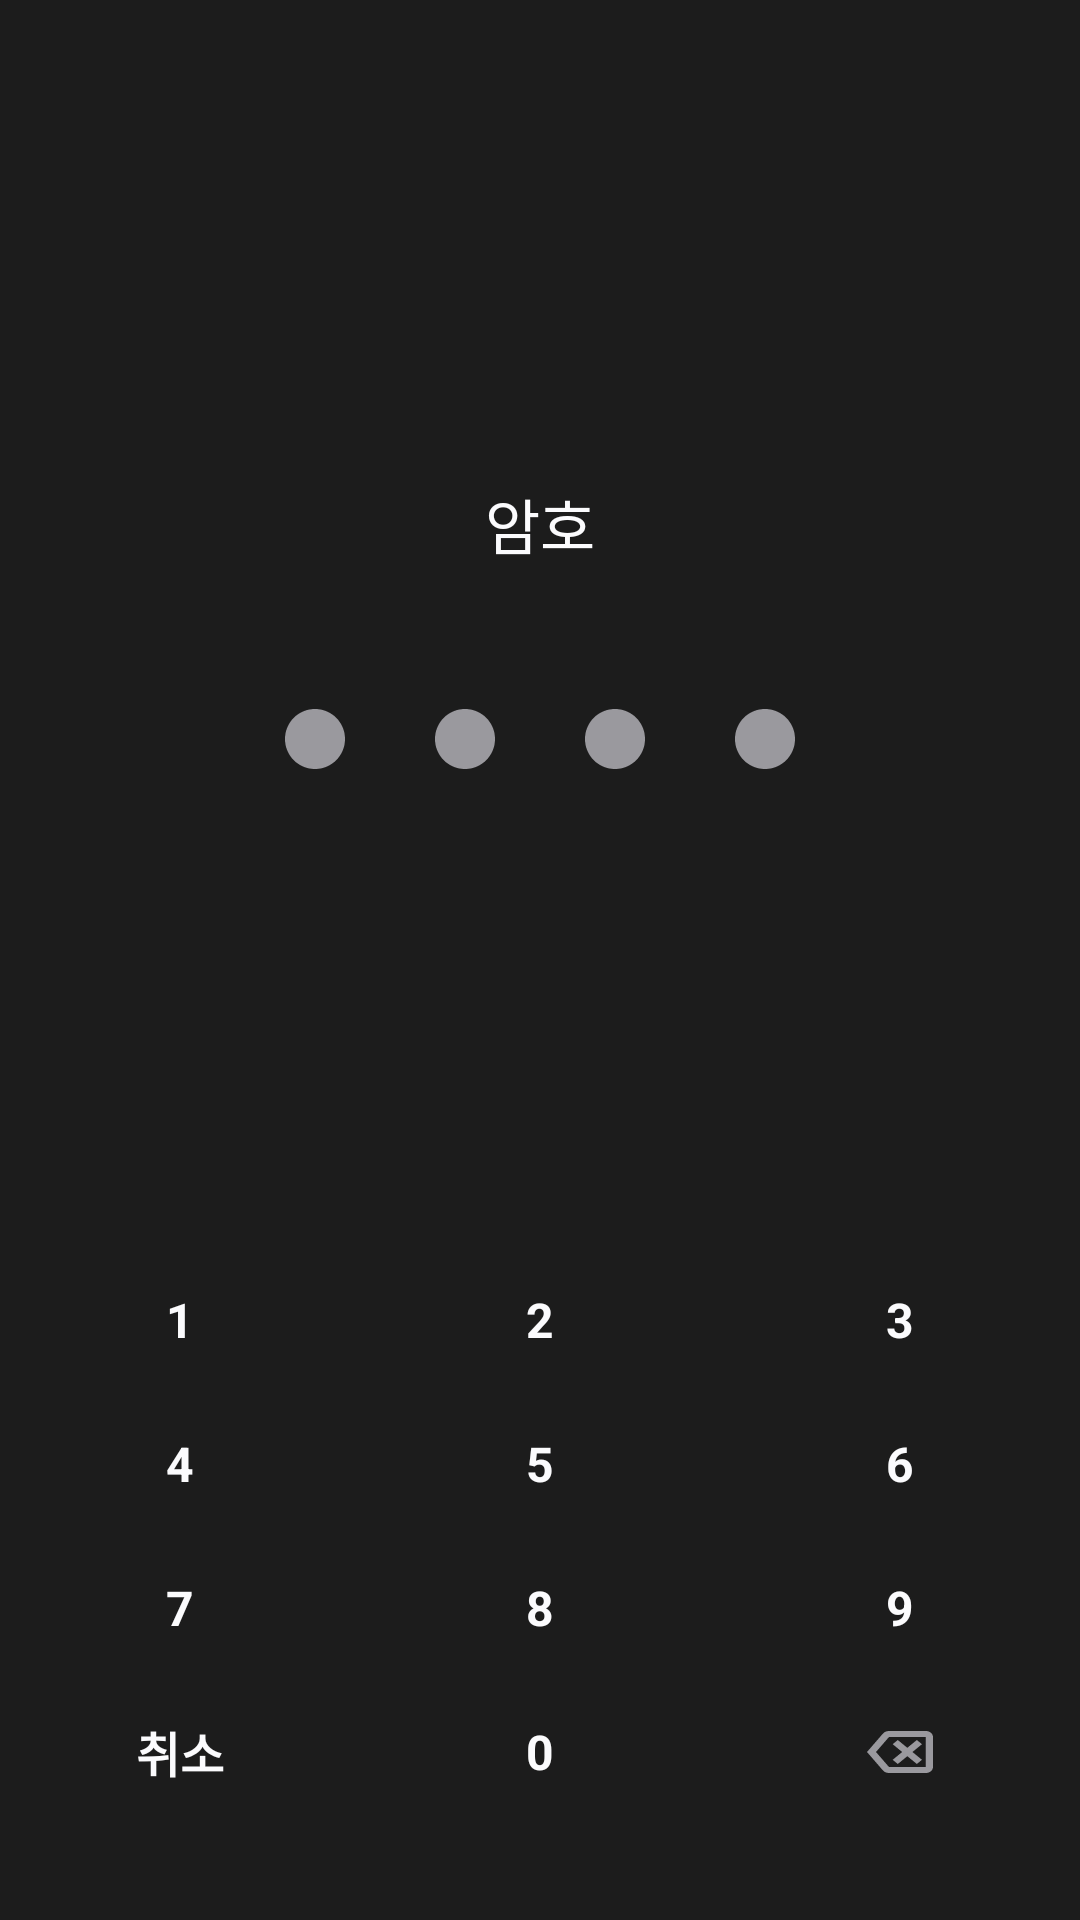

Named icons in this screenshot (1080*1920) and their bounding boxes, (x1, y1, x2, y2):
number pad backspace: (867, 1731, 933, 1773)
